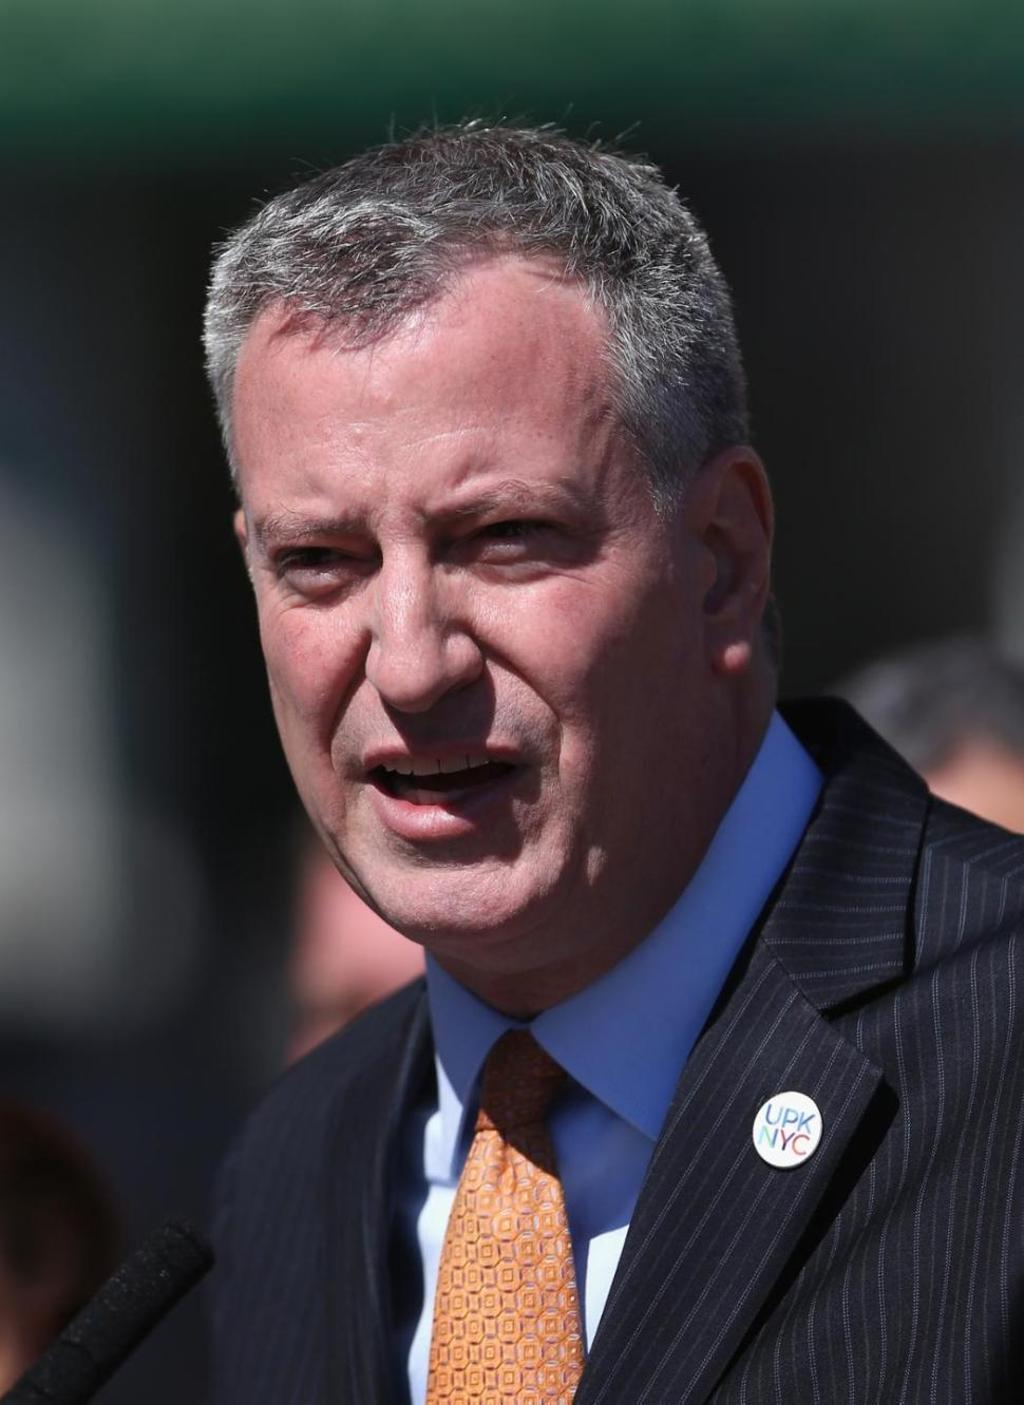face: (256, 358, 701, 943)
